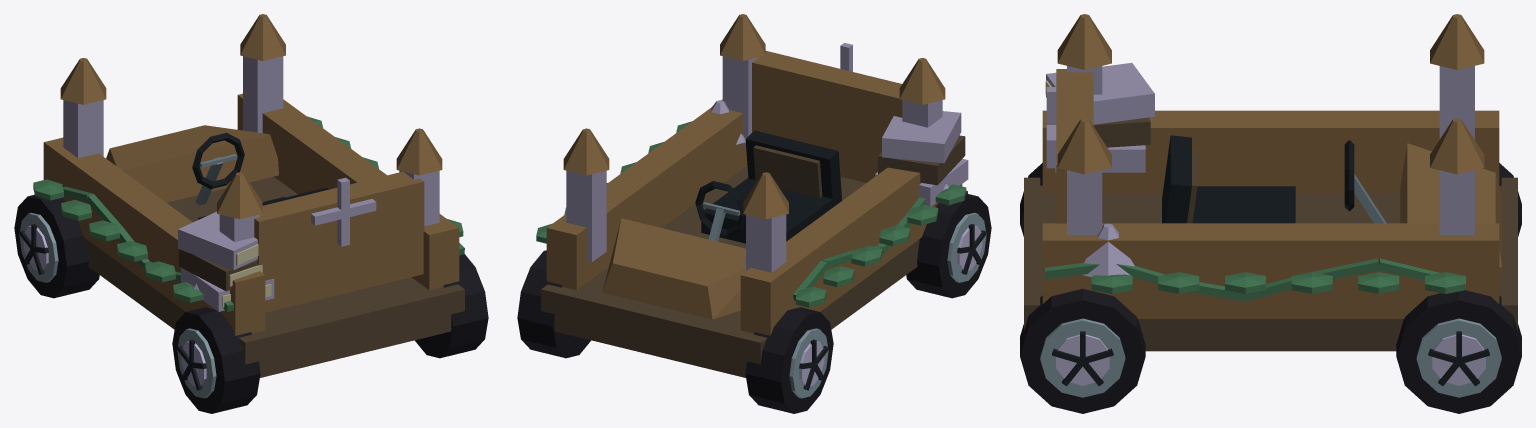
Rendered from kart.glb.
The picture shows the model from 3 angles, left to right: view 1: azimuth 30°, elevation 25°; view 2: azimuth 150°, elevation 25°; view 3: azimuth 270°, elevation 25°; orthographic projection. The views are drawn at different scales.
Parts seen in each view (by area): view 1: identity-reliquary-reliquary-arched-stone-chest, wheel-rear-left, wheel-front-left, identity-reliquary-motif-books, identity-reliquary-motif-vines, wheel-rear-right, identity-reliquary-driver-cockpit; view 2: identity-reliquary-reliquary-arched-stone-chest, identity-reliquary-driver-cockpit, wheel-front-left, wheel-rear-left, identity-reliquary-motif-books, identity-reliquary-motif-vines, wheel-front-right; view 3: identity-reliquary-reliquary-arched-stone-chest, wheel-rear-right, wheel-front-right, identity-reliquary-motif-vines, identity-reliquary-driver-cockpit, identity-reliquary-motif-books, identity-reliquary-motif-gems.
Boxes of the visible parts, x1,y1,x2,y2 form: identity-reliquary-reliquary-arched-stone-chest: [43, 14, 464, 377]; wheel-rear-left: [172, 307, 260, 413]; wheel-front-left: [14, 194, 99, 298]; identity-reliquary-motif-books: [178, 211, 274, 311]; identity-reliquary-motif-vines: [33, 116, 464, 311]; wheel-rear-right: [415, 254, 488, 358]; identity-reliquary-driver-cockpit: [192, 132, 329, 219]; identity-reliquary-reliquary-arched-stone-chest: [541, 14, 967, 377]; identity-reliquary-driver-cockpit: [695, 130, 841, 243]; wheel-front-left: [745, 307, 833, 413]; wheel-rear-left: [906, 193, 991, 298]; identity-reliquary-motif-books: [875, 111, 968, 206]; identity-reliquary-motif-vines: [536, 121, 966, 307]; wheel-front-right: [517, 250, 590, 358]; identity-reliquary-reliquary-arched-stone-chest: [1024, 14, 1517, 351]; wheel-rear-right: [1020, 288, 1145, 413]; wheel-front-right: [1396, 290, 1521, 413]; identity-reliquary-motif-vines: [1045, 258, 1465, 301]; identity-reliquary-driver-cockpit: [1162, 135, 1386, 223]; identity-reliquary-motif-books: [1045, 63, 1154, 172]; identity-reliquary-motif-gems: [1082, 223, 1134, 277].
Size of the model in its own units: 2.01 by 1.51 by 2.56.
